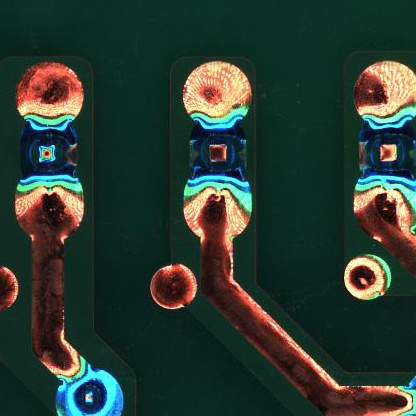spot: (358, 113, 416, 187), (189, 112, 246, 185), (20, 115, 79, 184), (55, 365, 125, 416)
